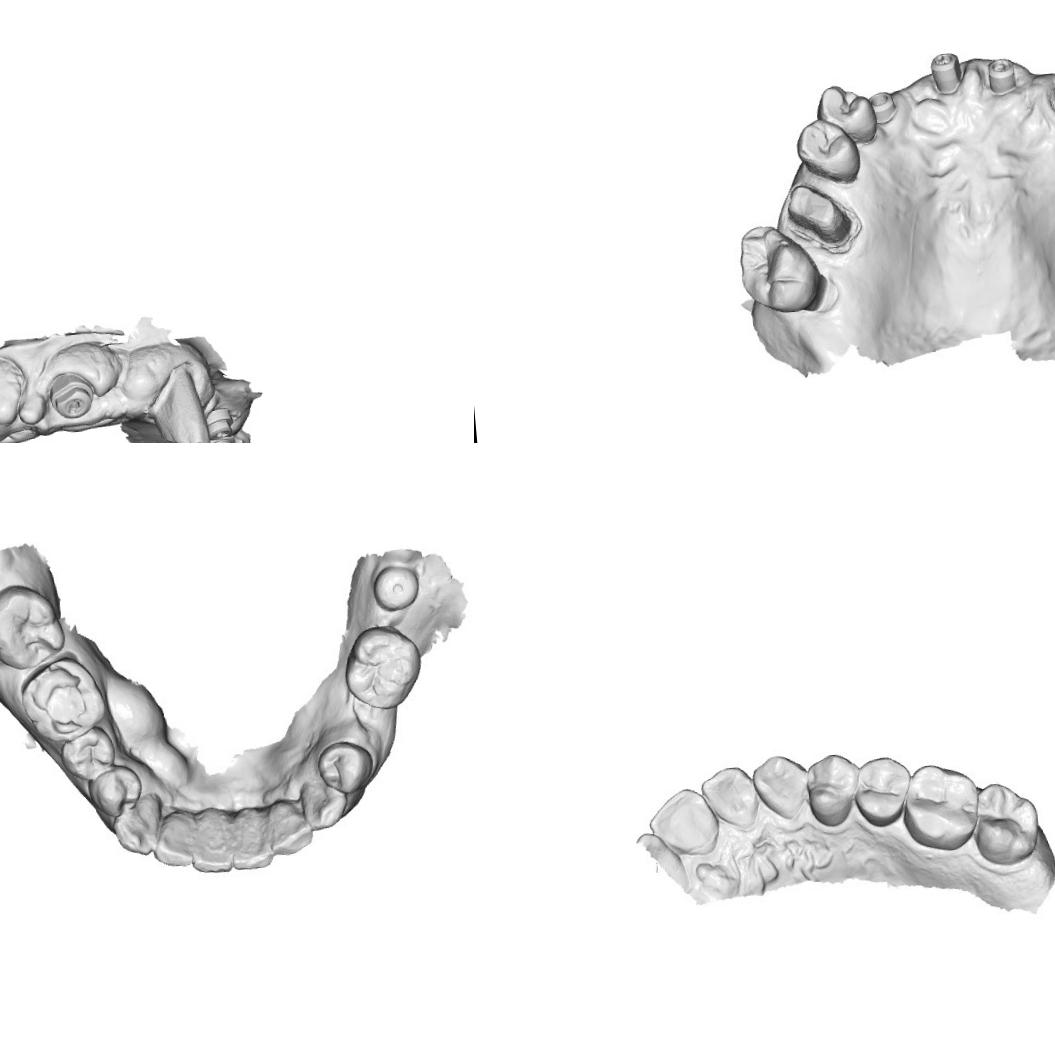canine: (145, 363, 214, 443), (747, 748, 810, 820), (112, 796, 162, 858), (300, 775, 348, 831), (344, 701, 390, 749)
crown: (782, 178, 856, 252)
implant: (368, 562, 422, 613), (982, 54, 1022, 100), (929, 48, 966, 95), (864, 89, 902, 124)
implant_minus: (42, 368, 96, 422), (201, 404, 241, 441), (208, 432, 242, 443)
incisor: (645, 784, 720, 860), (697, 760, 760, 832), (187, 809, 236, 878), (262, 794, 313, 858), (148, 810, 198, 870), (228, 816, 274, 874)
inlay: (24, 662, 92, 737)
molar: (734, 218, 822, 316), (896, 758, 982, 854), (339, 620, 426, 713), (966, 776, 1042, 868), (0, 577, 69, 672)
premolar: (847, 751, 913, 830), (791, 112, 861, 186), (800, 750, 860, 828), (814, 80, 880, 142), (313, 736, 374, 795), (57, 724, 118, 782), (87, 762, 144, 819)
